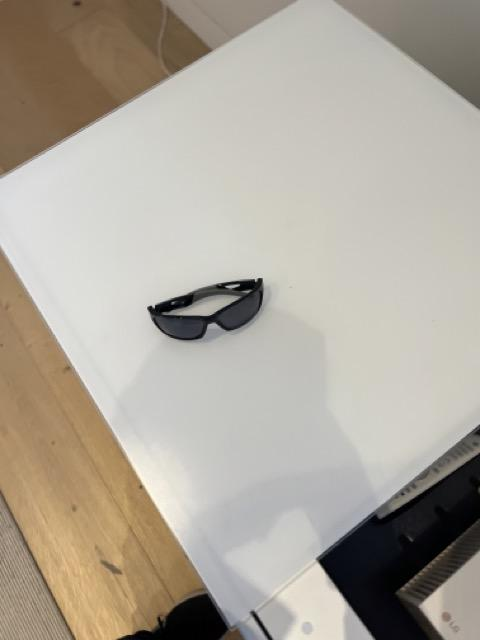Sunglasses: (146, 274, 266, 342)
